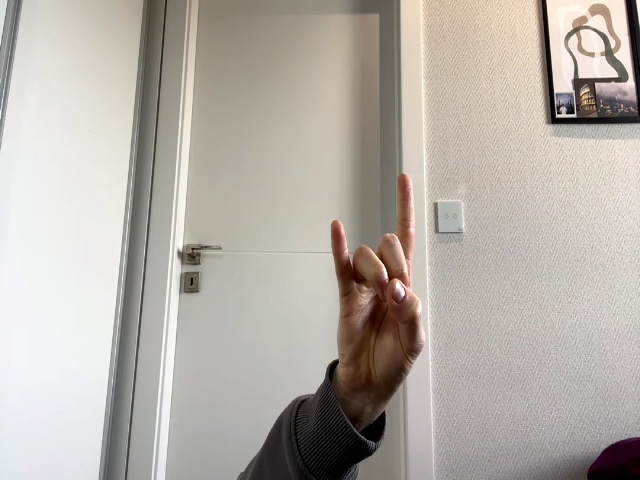Y: (331, 174, 425, 388)
